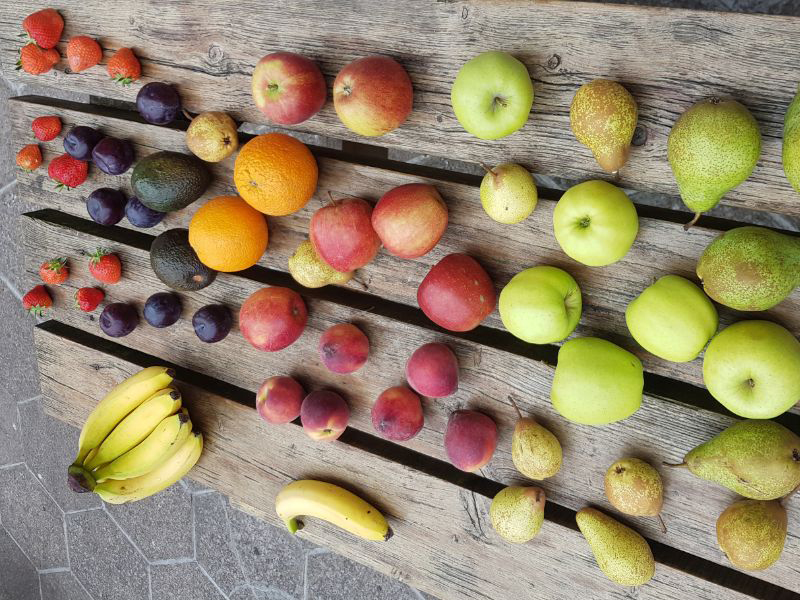banana: (55, 356, 208, 511), (267, 469, 397, 560)
strawberry: (102, 43, 141, 88), (13, 133, 46, 175), (37, 253, 68, 286)
